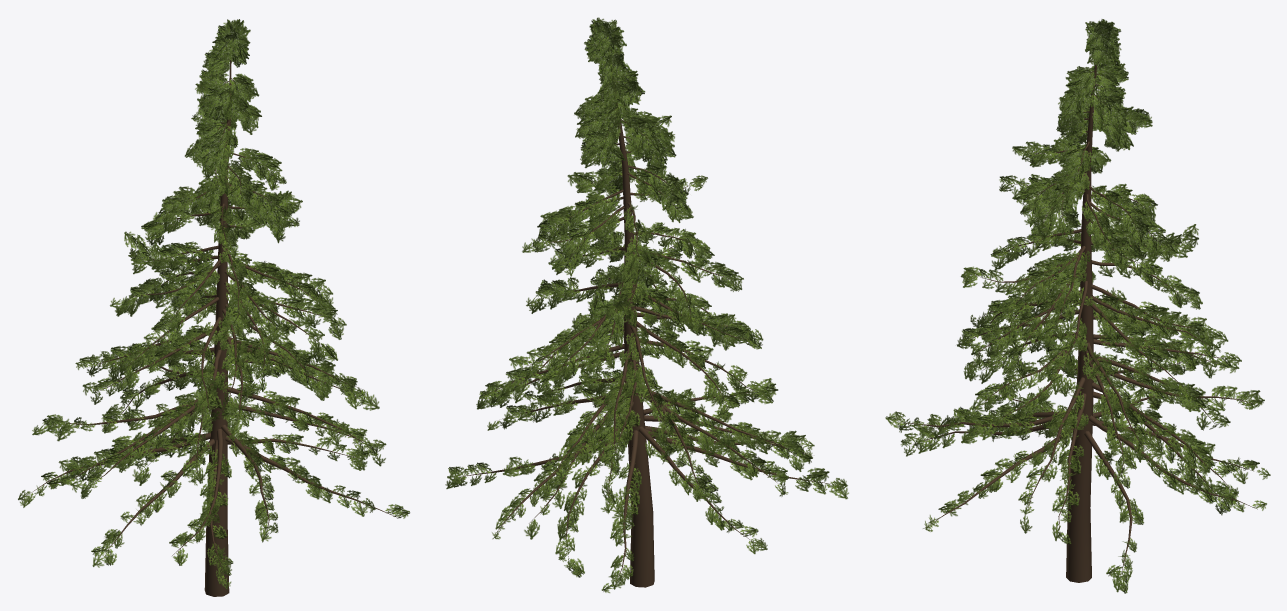
File: pine-b.glb
The picture shows the model from 3 angles, left to right: view 1: azimuth 30°, elevation 25°; view 2: azimuth 150°, elevation 25°; view 3: azimuth 270°, elevation 25°; orthographic projection. The views are drawn at different scales.
Size of the model in its own units: 4.26 by 6.66 by 4.08.
Materials: 2 (1 with a texture image).
